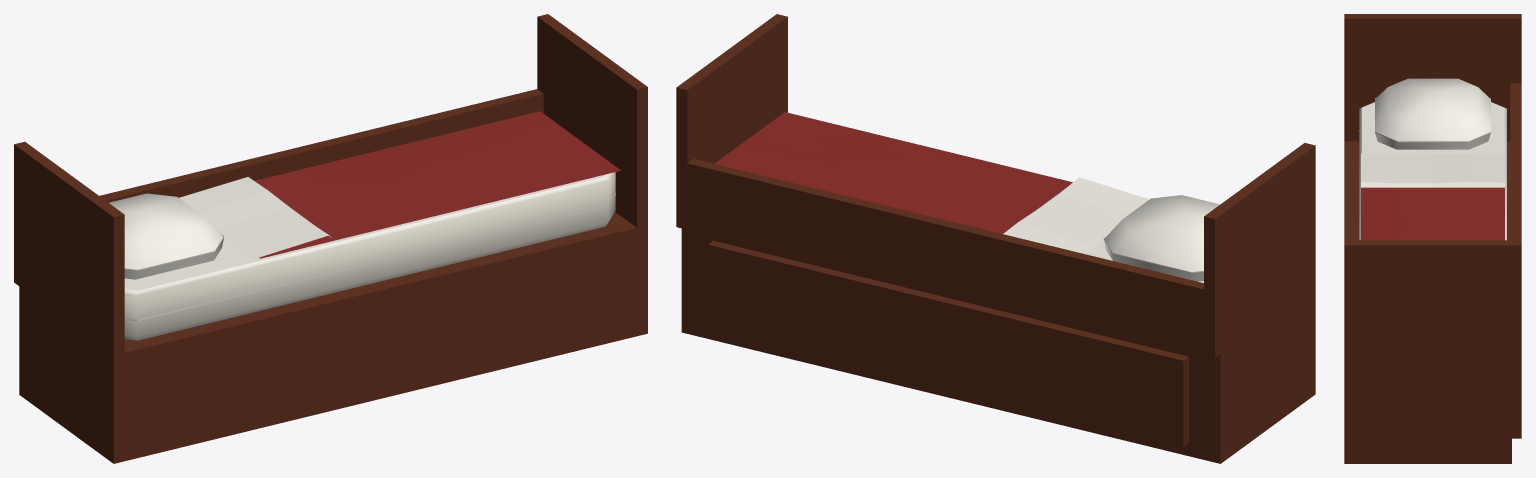
File: parametric-sized-berth-l170w55-2nd.glb
3 renders of one model, left to right at view 1: azimuth 30°, elevation 25°; view 2: azimuth 150°, elevation 25°; view 3: azimuth 270°, elevation 25°, orthographic. The views are drawn at different scales.
Parts seen in each view (by area): view 1: parametric-sized-berth-l170w55-2nd; view 2: parametric-sized-berth-l170w55-2nd; view 3: parametric-sized-berth-l170w55-2nd.
Part boxes in pixels (x1,y1,x2,y2): parametric-sized-berth-l170w55-2nd: [14, 14, 647, 463]; parametric-sized-berth-l170w55-2nd: [676, 14, 1315, 463]; parametric-sized-berth-l170w55-2nd: [1344, 14, 1521, 463].
Size of the model in its own units: 1.7 by 0.75 by 0.55.
